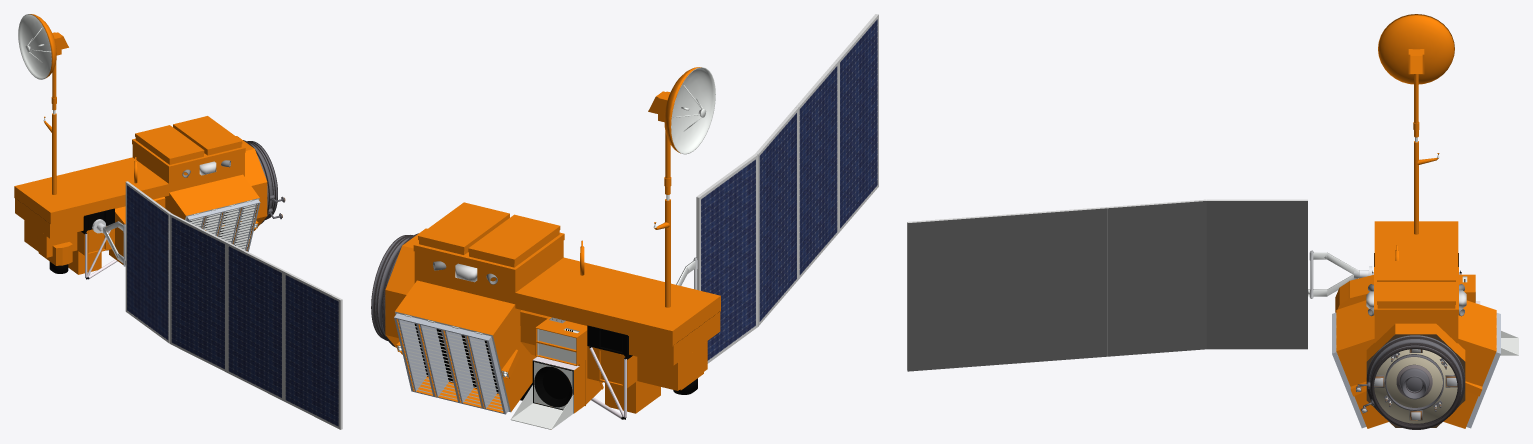
Rendered from landsat-4-and-5.glb.
3 views of the same model, side by side, from view 1: azimuth 30°, elevation 25°; view 2: azimuth 150°, elevation 25°; view 3: azimuth 270°, elevation 25° (orthographic). The views are drawn at different scales.
Visible parts, largest first — view 1: Cube.017, Cube.013, Cube.015, TM_Panels_1.004, Cube.004, TM_Body.002, Cylinder.007; view 2: Cube.013, Cube.017, Cube.015, TM_Panels_1.004, Cube.004, TM_Body.002, Cylinder.007; view 3: Cube.015, Cube.013, TM_Panels_1.004, Cube.004.
Boxes of the visible parts, box(x1,y1,x2,y2) form: Cube.017: box(127, 185, 338, 426); Cube.013: box(14, 14, 267, 274); Cube.015: box(18, 14, 342, 429); TM_Panels_1.004: box(186, 199, 260, 251); Cube.004: box(18, 160, 244, 279); TM_Body.002: box(190, 204, 257, 249); Cylinder.007: box(85, 230, 117, 278); Cube.013: box(385, 67, 720, 429); Cube.017: box(701, 19, 877, 360); Cube.015: box(371, 14, 878, 412); TM_Panels_1.004: box(394, 313, 508, 414); Cube.004: box(414, 257, 719, 419); TM_Body.002: box(398, 320, 573, 429); Cylinder.007: box(533, 347, 626, 418); Cube.015: box(907, 137, 1496, 429); Cube.013: box(1335, 14, 1496, 428); TM_Panels_1.004: box(1332, 312, 1500, 428); Cube.004: box(1308, 250, 1465, 316).
Bounding box in the file's own units: 1.59 × 1.79 × 3.17.
8 materials, 6 textured.
